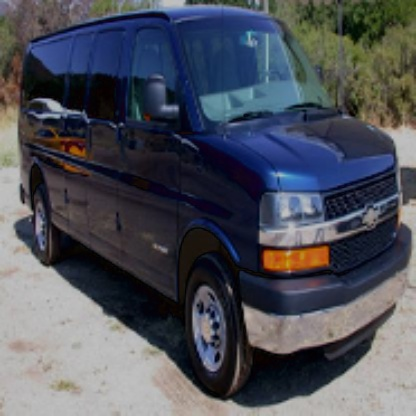Vehicle: (16, 2, 415, 403)
